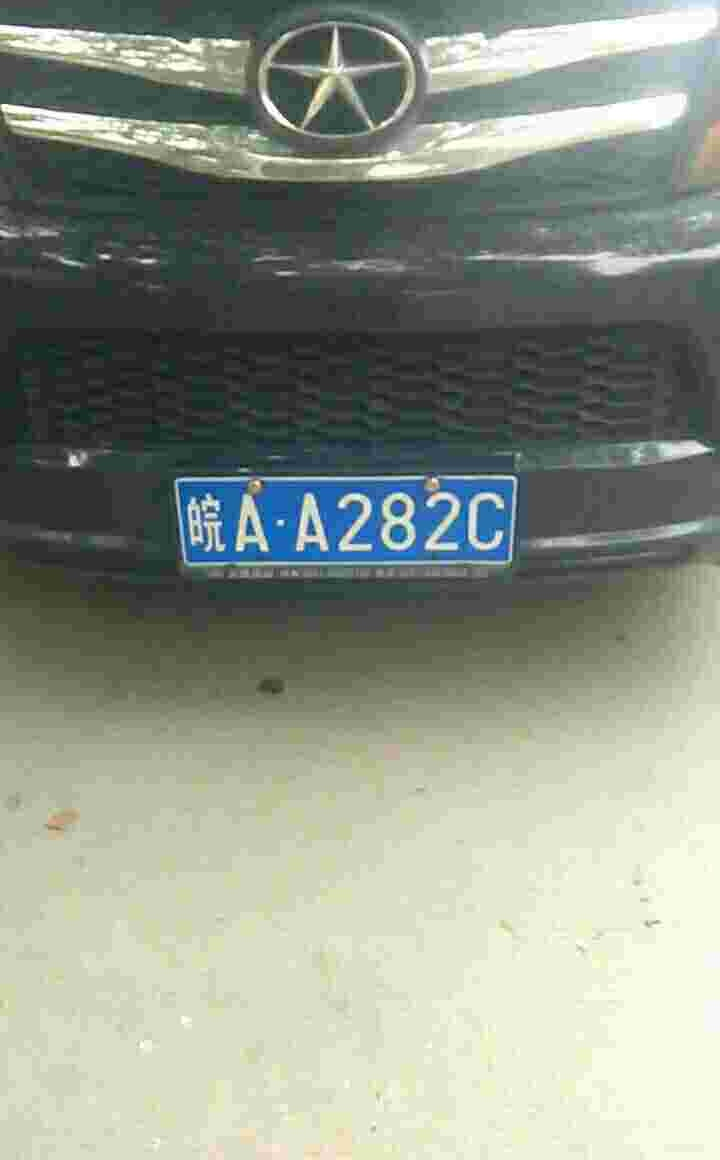license_plate: (169, 484, 528, 565)
